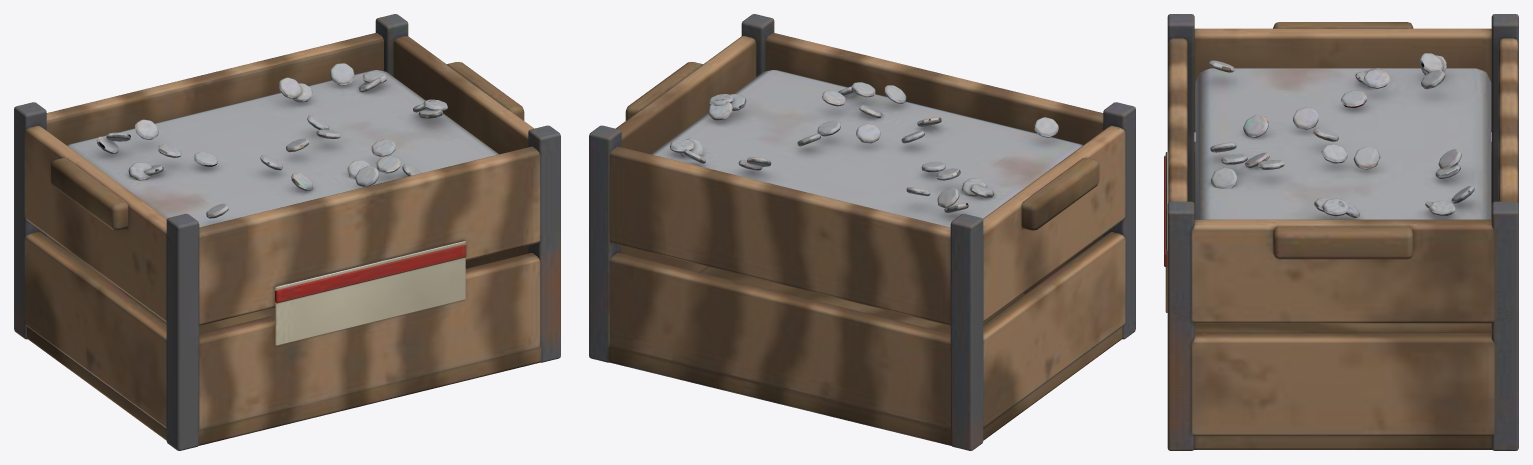
File: nails_box.glb
3 views of the same model, side by side, from view 1: azimuth 30°, elevation 25°; view 2: azimuth 150°, elevation 25°; view 3: azimuth 270°, elevation 25° (orthographic). The views are drawn at different scales.
Parts seen in each view (by area): view 1: NailsBox; view 2: NailsBox; view 3: NailsBox.
Boxes of the visible parts, x1,y1,x2,y2 form: NailsBox: (14,14,560,450); NailsBox: (589,14,1135,450); NailsBox: (1164,14,1518,450).
Bounding box in the file's own units: 0.65 × 0.34 × 0.4555.
Materials: 6 (6 with a texture image).
